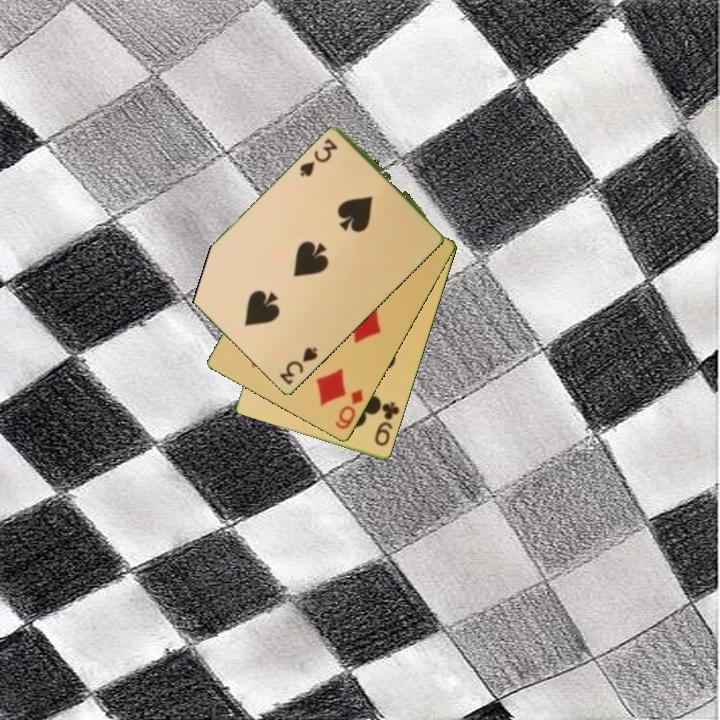3s: (276, 343, 321, 388), (296, 135, 341, 180)
6d: (332, 385, 366, 433)
9c: (371, 399, 403, 450)
